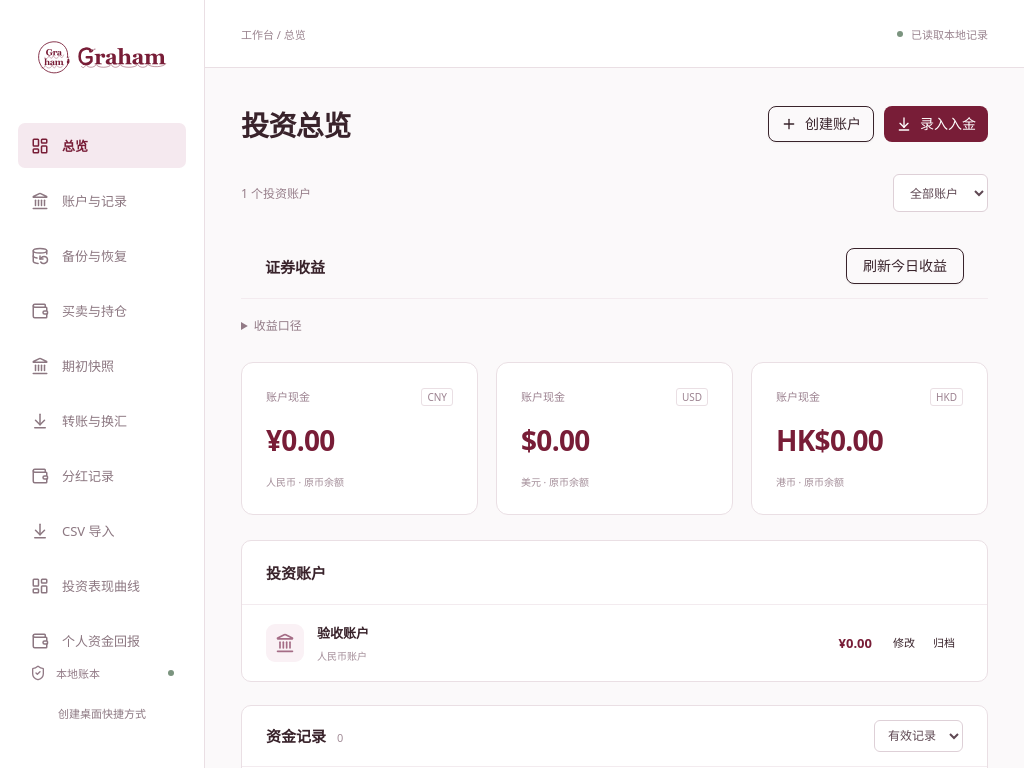
已删除记录点击彻底删除立即清除，不输入文字或再次确认
The width and height of the screenshot is (1024, 768).
Select "已删除" in the 2nd dropdown named "记录状态": (918, 736) [874,720,963,752]
(page scrolled)
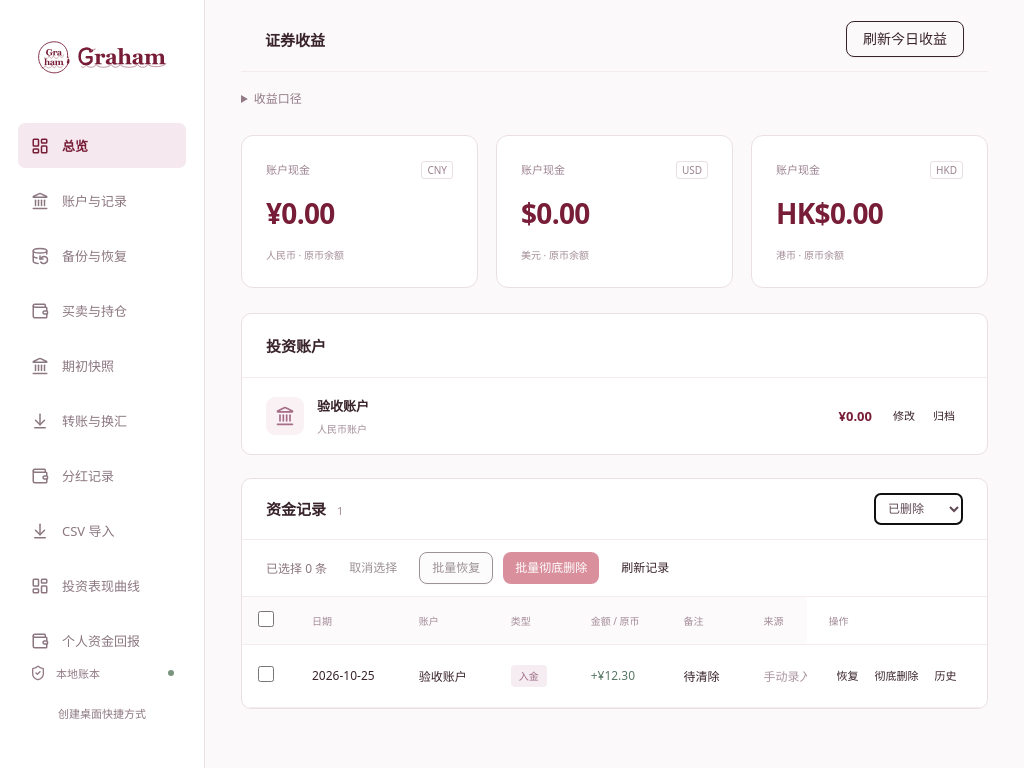
Click the button with aria-label "彻底删除记录": (897, 676) [867,661,927,691]
(page scrolled)
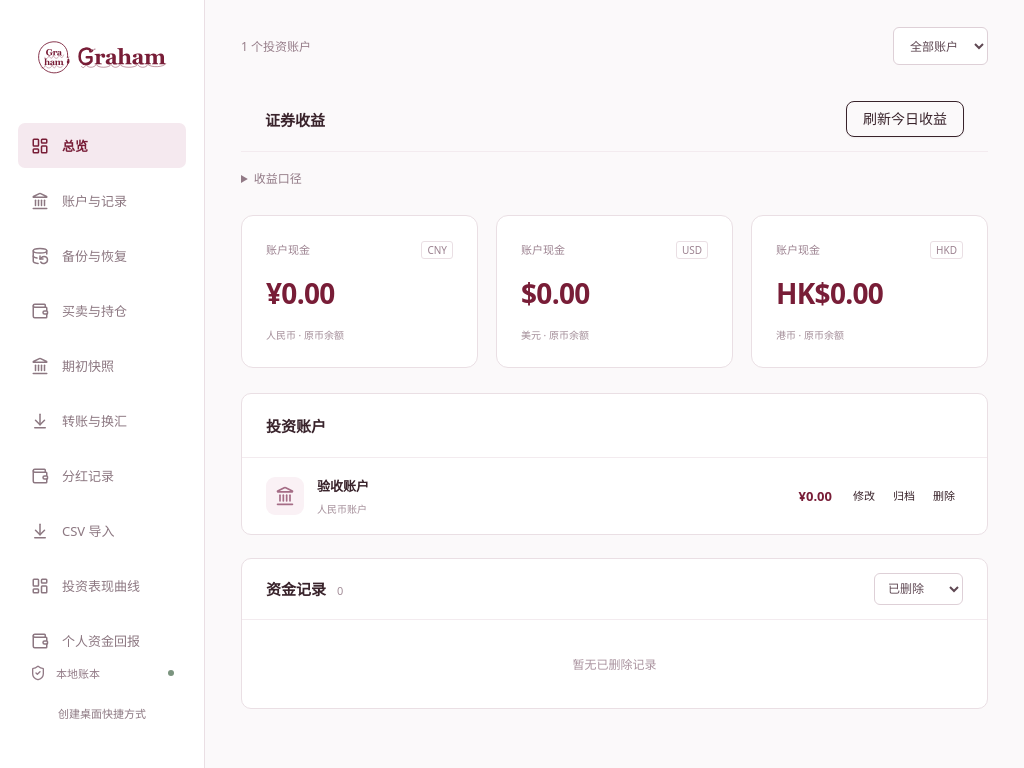
Expected: the button with aria-label "删除空账户" is shown, [925,481,963,511]
Expected: the text "暂无已删除记录" is shown, [572,656,656,673]
Expected: the button "恢复记录" is gone
